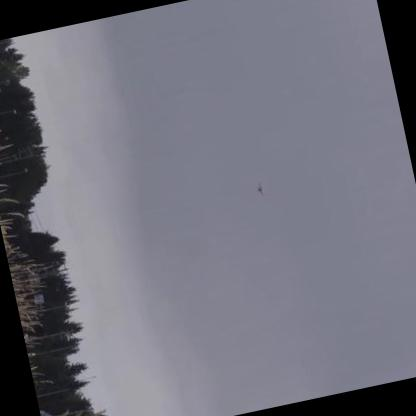plane: (249, 178, 267, 198)
